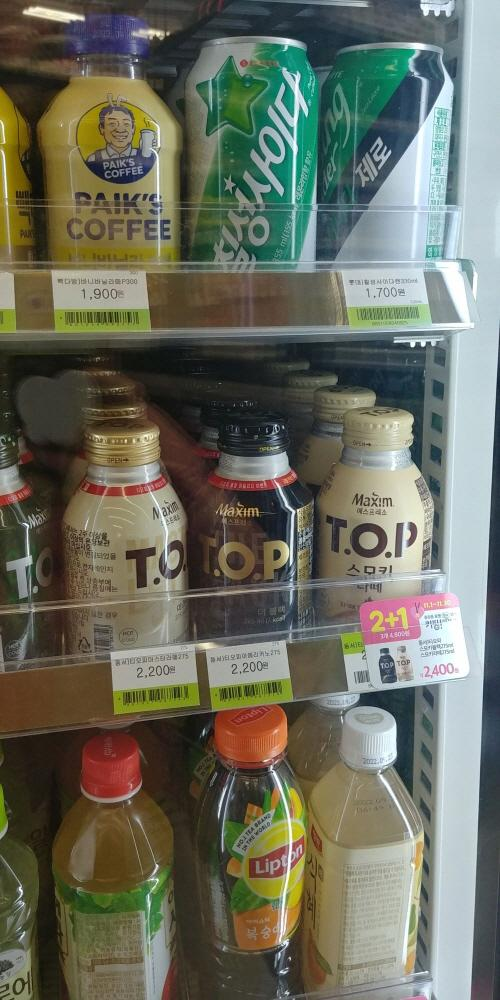TOP_black: (196, 408, 320, 628)
chilsungcider: (191, 28, 314, 265)
